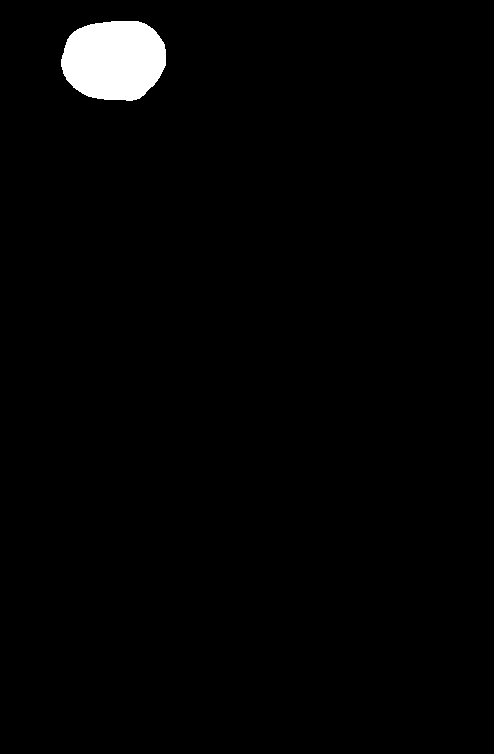veins_detect: (50, 22, 176, 112)
veins_seg: (62, 22, 166, 101)
